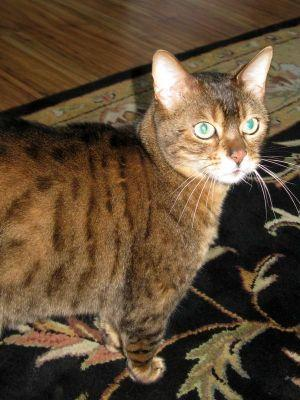bengal: (143, 33, 276, 191)
